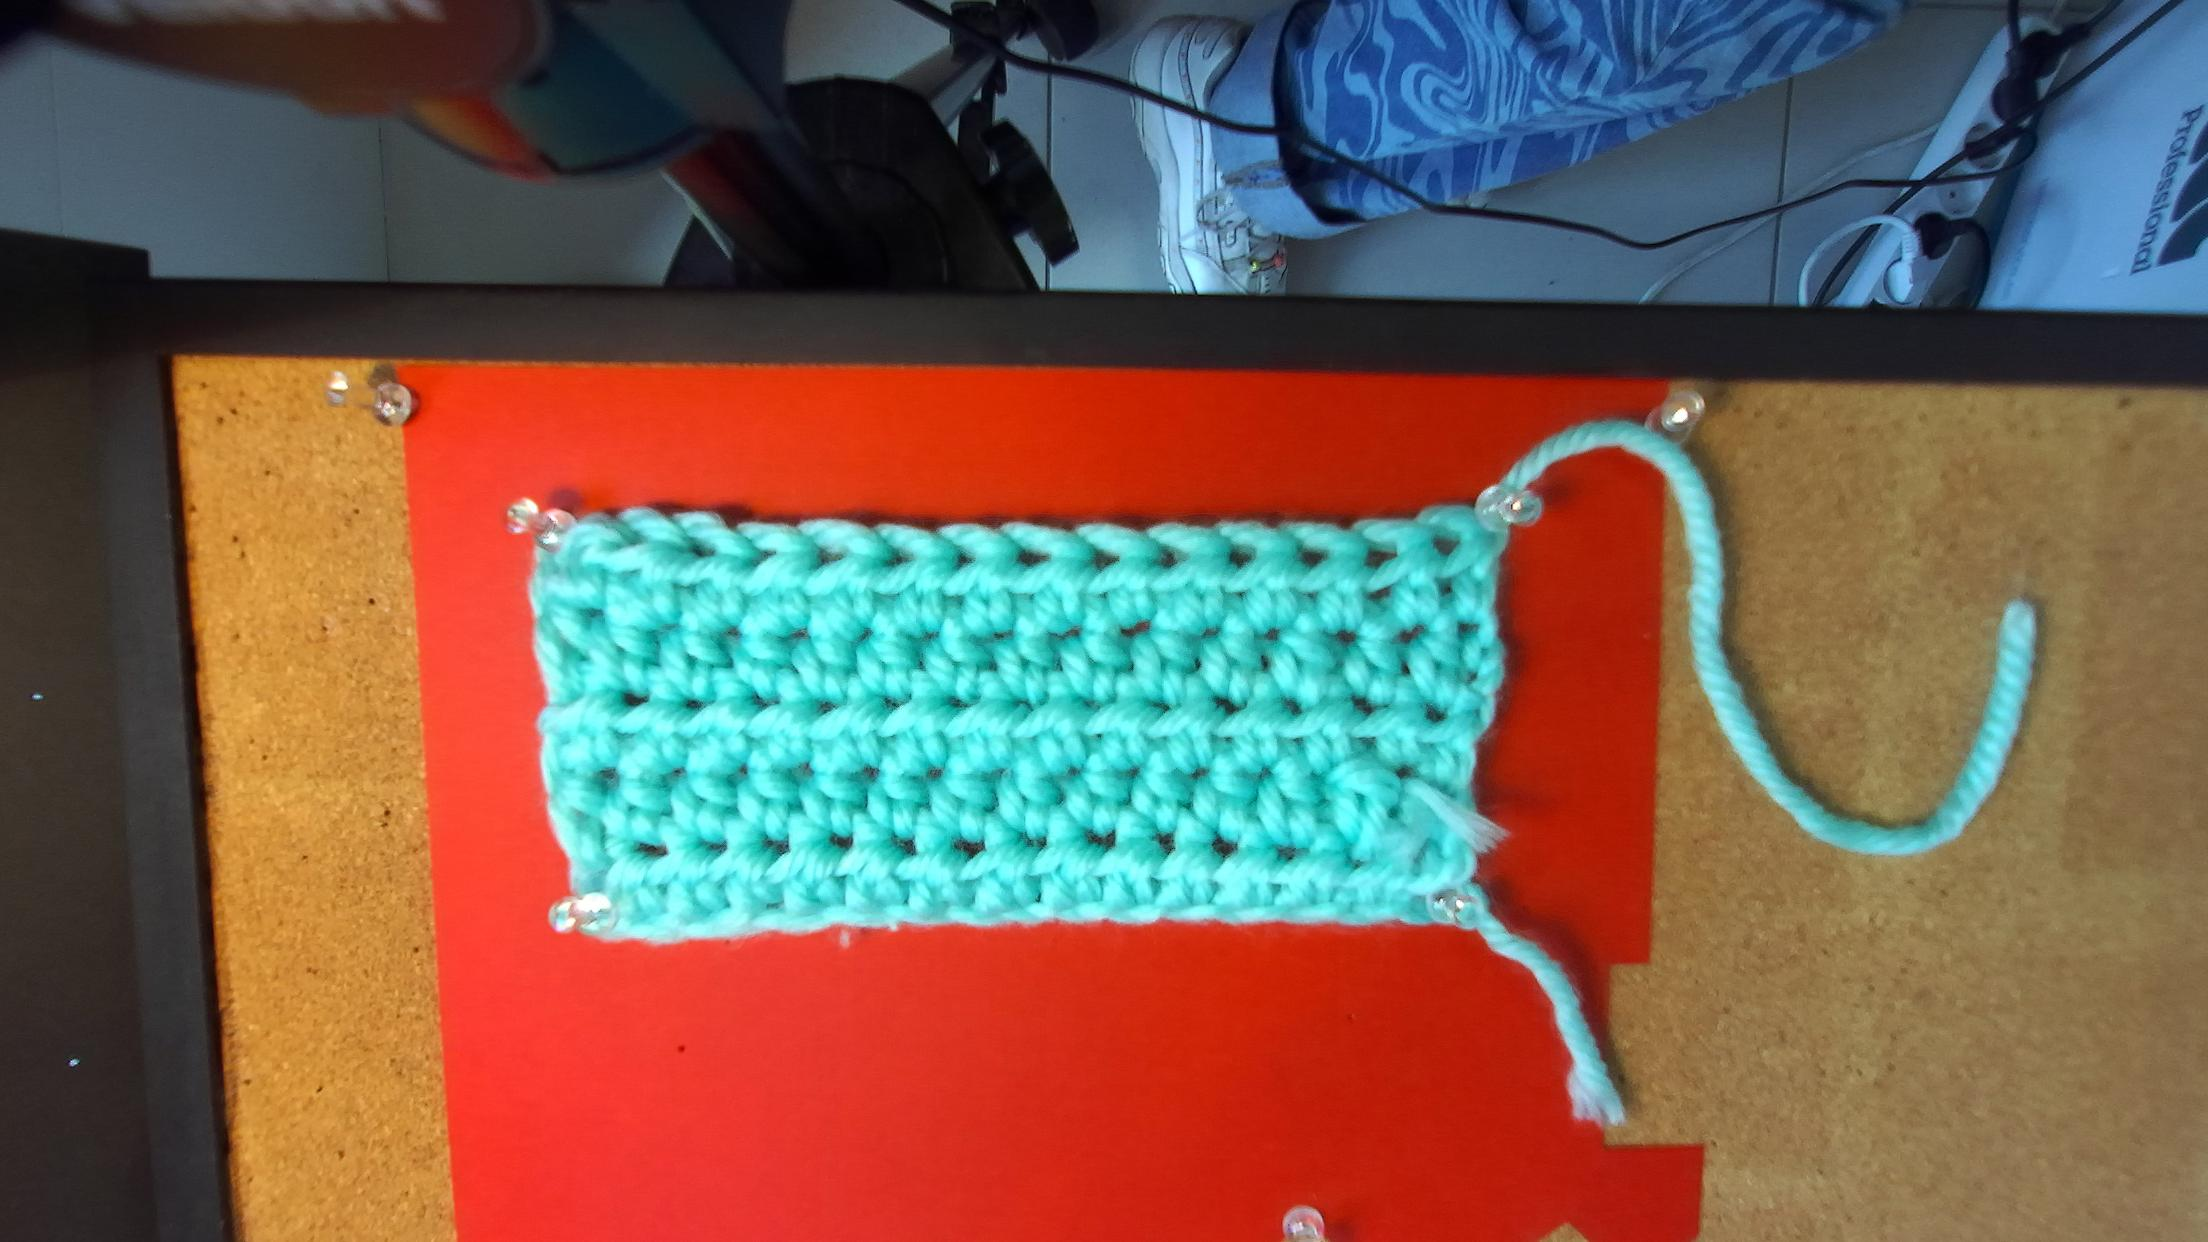hole: (605, 529, 650, 551), (1010, 546, 1051, 569), (1360, 548, 1396, 572), (680, 535, 718, 557), (813, 544, 847, 568), (745, 542, 778, 566), (1088, 549, 1121, 573), (879, 548, 916, 569), (1294, 549, 1327, 570), (1431, 537, 1462, 559), (1155, 545, 1182, 569), (951, 549, 977, 573), (1228, 548, 1257, 569)
swatch: (524, 506, 1507, 947)
